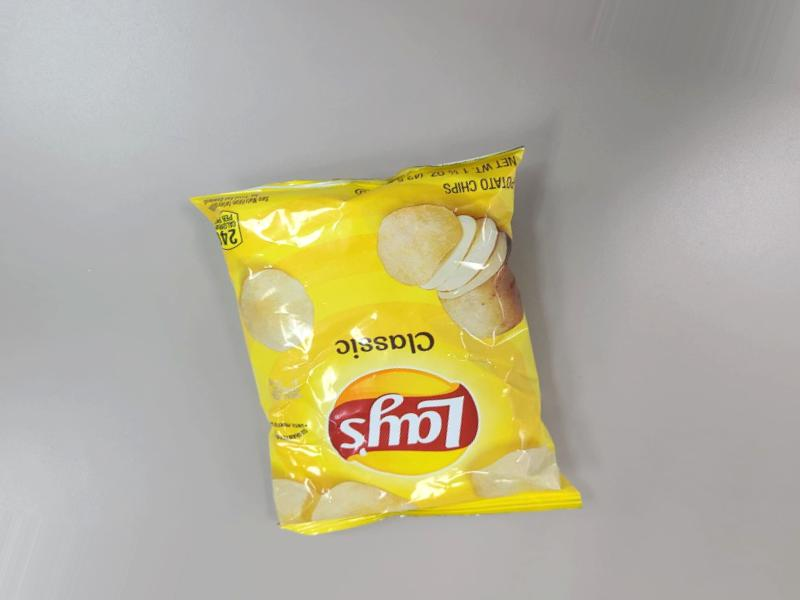lays: (182, 126, 587, 545)
